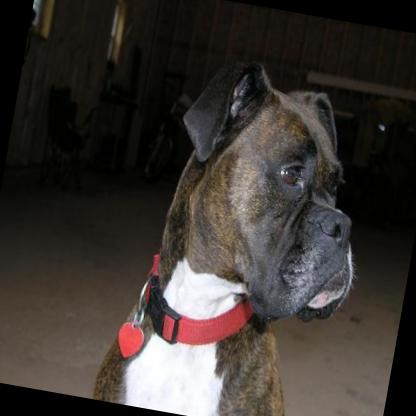boxer: (97, 42, 389, 416)
